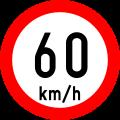Speed Limit -60-: (29, 26, 92, 82)
